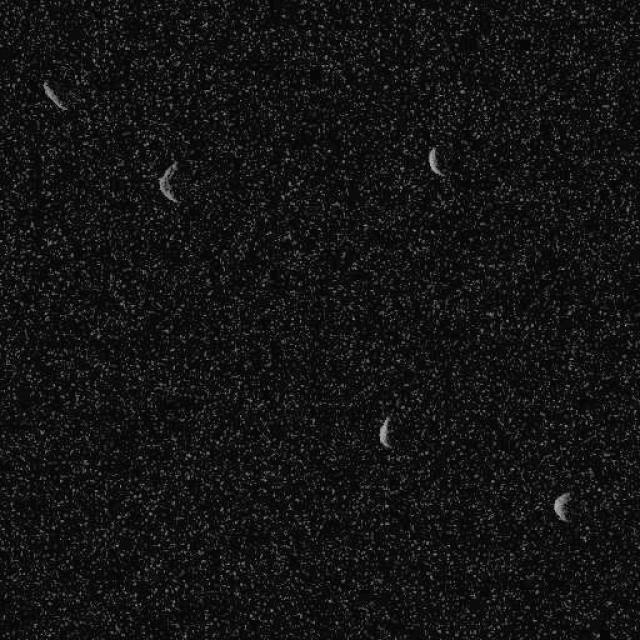D2: (156, 158, 182, 204), (42, 80, 68, 112), (552, 492, 572, 522), (426, 145, 445, 176), (378, 415, 392, 449)
